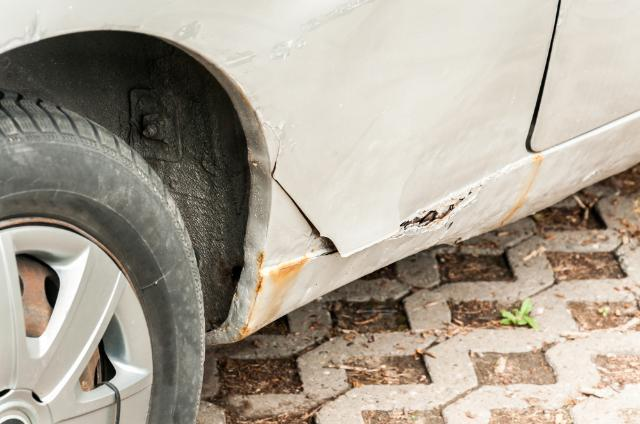crack: (264, 122, 479, 258)
